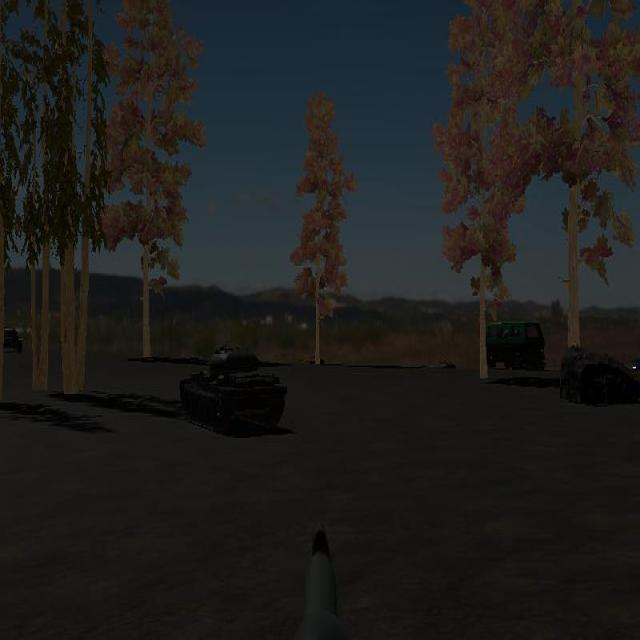Tank: (179, 342, 288, 433)
car: (485, 320, 546, 372)
